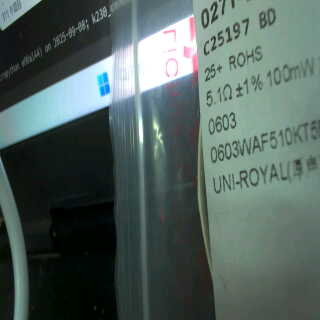5.1R: (203, 81, 234, 111)
